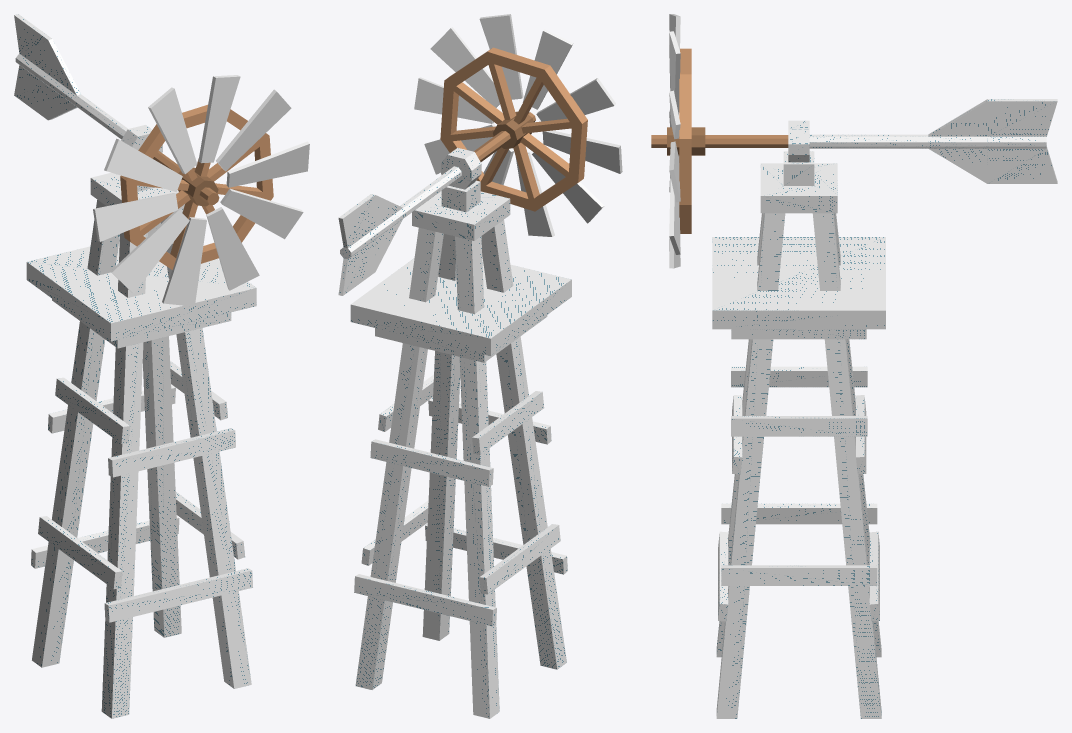
The model's file is farm_windmill.glb.
3 renders of one model, left to right at view 1: azimuth 30°, elevation 25°; view 2: azimuth 150°, elevation 25°; view 3: azimuth 270°, elevation 25°, orthographic. The views are drawn at different scales.
Visible parts, largest first — view 1: farm_windmill; view 2: farm_windmill; view 3: farm_windmill.
Part boxes in pixels (bbox=[...]): farm_windmill: bbox=[14, 14, 309, 718]; farm_windmill: bbox=[338, 14, 622, 718]; farm_windmill: bbox=[651, 14, 1057, 718].
Bounding box in the file's own units: 2.97 × 8.5 × 4.76.
Materials: 1 (1 with a texture image).
